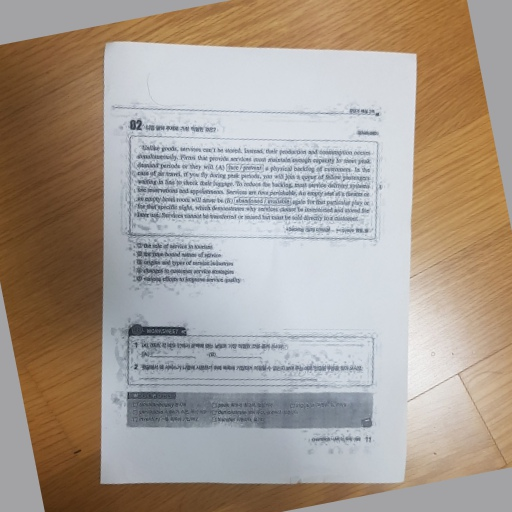Paper_2: (93, 34, 419, 491)
